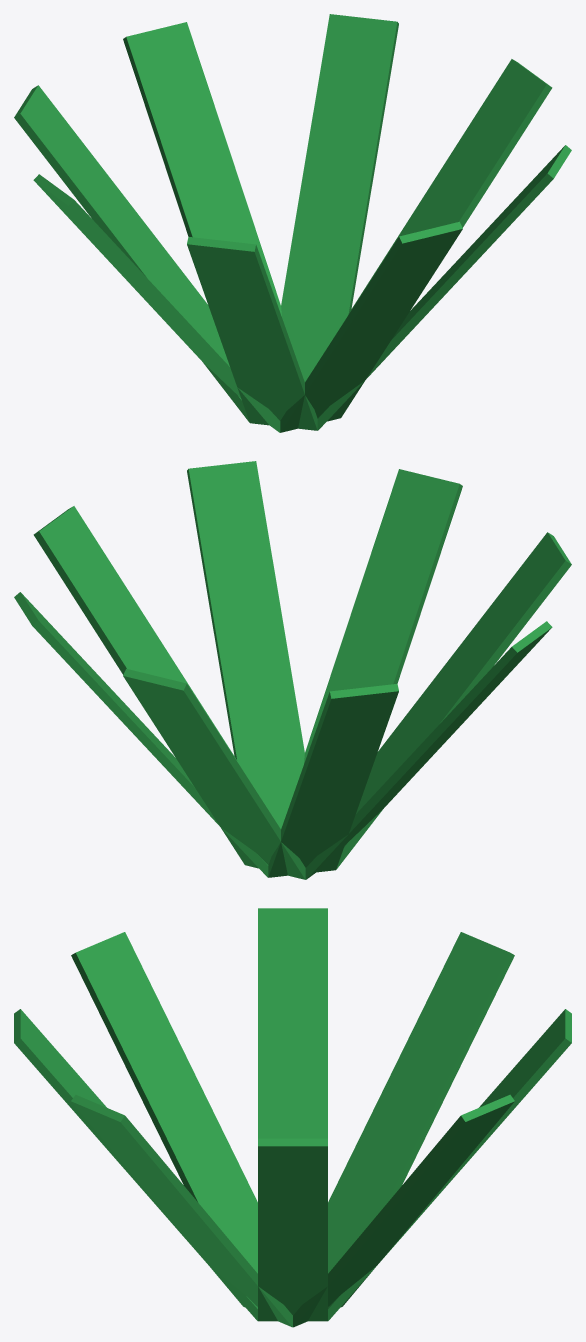
File: giant_fern.glb
The picture shows the model from 3 angles, top to bottom: view 1: azimuth 30°, elevation 25°; view 2: azimuth 150°, elevation 25°; view 3: azimuth 270°, elevation 25°; orthographic projection.
Visible parts, largest first — view 1: giant_fern; view 2: giant_fern; view 3: giant_fern.
Part boxes in pixels (<box>): giant_fern: <box>14,14,571,432</box>; giant_fern: <box>14,461,571,879</box>; giant_fern: <box>14,908,571,1327</box>.
Bounding box in the file's own units: 1.99 × 1.12 × 1.99.
